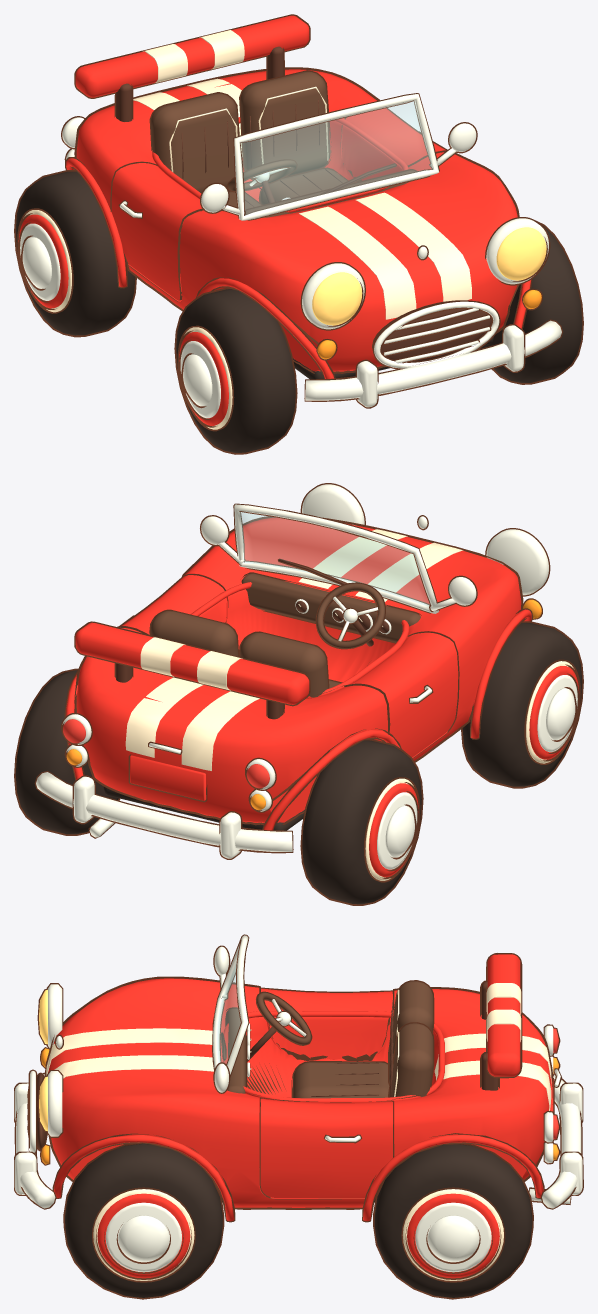
Rendered from arian.glb.
3 renders of one model, top to bottom at view 1: azimuth 30°, elevation 25°; view 2: azimuth 150°, elevation 25°; view 3: azimuth 270°, elevation 25°, orthographic. The views are drawn at different scales.
Parts seen in each view (by area): view 1: Body, Wheel_FL, Wheel_RL, Windshield_Glass, Body_Mesh.003, Seat_Backrest_R, Seat_Backrest_L, Bumper_Front, Rear_Spoiler, Wheel_FR, Grille, Body_Mesh.004 (+27 smaller); view 2: Body, Wheel_RL, Wheel_FL, Windshield_Glass, Body_Mesh.003, Wheel_RR, Bumper_Rear, Rear_Spoiler, Dashboard, Windshield_Chrome_Frame, Fender_Trims, Seat_Backrest_L (+28 smaller); view 3: Body, Wheel_FR, Wheel_RR, Body_Mesh.004, Body_Mesh.003, Fender_Trims, Seat_Cushion_L, Rear_Spoiler, Bumper_Rear, Seat_Backrest_R, Outline_Body, Racing_Stripe_Hood (+25 smaller).
Boxes of the visible parts, left/top/right/bottom form: Body: left=76, top=69, right=517, bottom=371; Wheel_FL: left=176, top=289, right=295, bottom=452; Wheel_RL: left=15, top=171, right=135, bottom=335; Windshield_Glass: left=240, top=100, right=433, bottom=215; Body_Mesh.003: left=111, top=163, right=201, bottom=300; Seat_Backrest_R: left=240, top=71, right=330, bottom=179; Seat_Backrest_L: left=150, top=93, right=238, bottom=193; Bumper_Front: left=305, top=320, right=561, bottom=407; Rear_Spoiler: left=75, top=15, right=309, bottom=97; Wheel_FR: left=480, top=225, right=582, bottom=382; Grille: left=374, top=301, right=499, bottom=368; Body_Mesh.004: left=342, top=108, right=445, bottom=180; Body: left=76, top=517, right=521, bottom=822; Wheel_RL: left=302, top=740, right=421, bottom=904; Wheel_FL: left=462, top=623, right=582, bottom=786; Windshield_Glass: left=239, top=512, right=429, bottom=606; Body_Mesh.003: left=351, top=632, right=458, bottom=757; Wheel_RR: left=15, top=670, right=118, bottom=834; Bumper_Rear: left=36, top=772, right=292, bottom=858; Rear_Spoiler: left=75, top=622, right=309, bottom=704; Dashboard: left=241, top=573, right=420, bottom=642; Windshield_Chrome_Frame: left=234, top=504, right=438, bottom=613; Fender_Trims: left=66, top=609, right=531, bottom=830; Seat_Backrest_L: left=240, top=633, right=328, bottom=698; Body: left=48, top=978, right=550, bottom=1207; Wheel_FR: left=65, top=1143, right=222, bottom=1297; Wheel_RR: left=374, top=1144, right=532, bottom=1297; Body_Mesh.004: left=260, top=1098, right=392, bottom=1197; Body_Mesh.003: left=261, top=988, right=392, bottom=1059; Fender_Trims: left=54, top=1134, right=543, bottom=1221; Seat_Cushion_L: left=293, top=1062, right=389, bottom=1098; Rear_Spoiler: left=487, top=954, right=520, bottom=1076; Bumper_Rear: left=542, top=1074, right=582, bottom=1208; Seat_Backrest_R: left=389, top=1023, right=433, bottom=1097; Outline_Body: left=44, top=976, right=552, bottom=1209; Racing_Stripe_Hood: left=46, top=1028, right=212, bottom=1075.
Size of the model in its own units: 1.52 by 0.9915 by 2.03.
